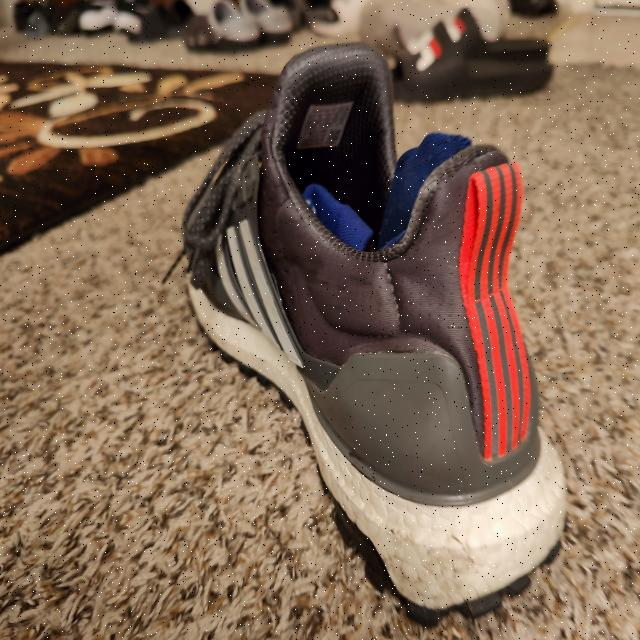black shoes: (236, 49, 526, 558)
